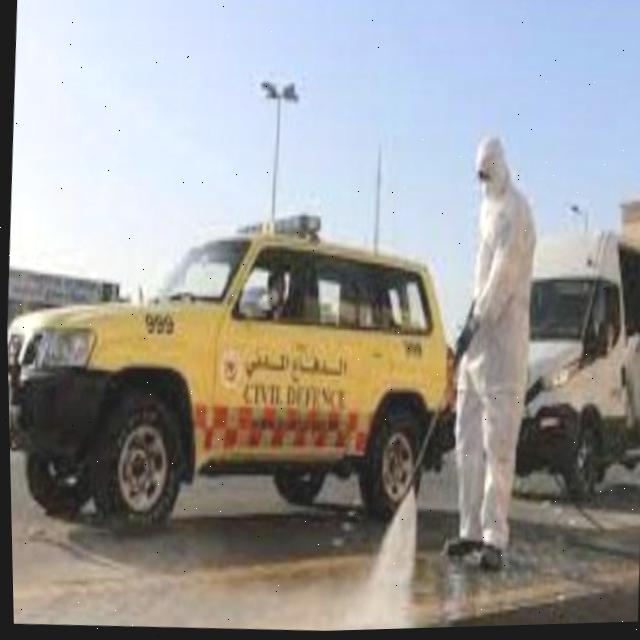emergency: (4, 190, 475, 561)
